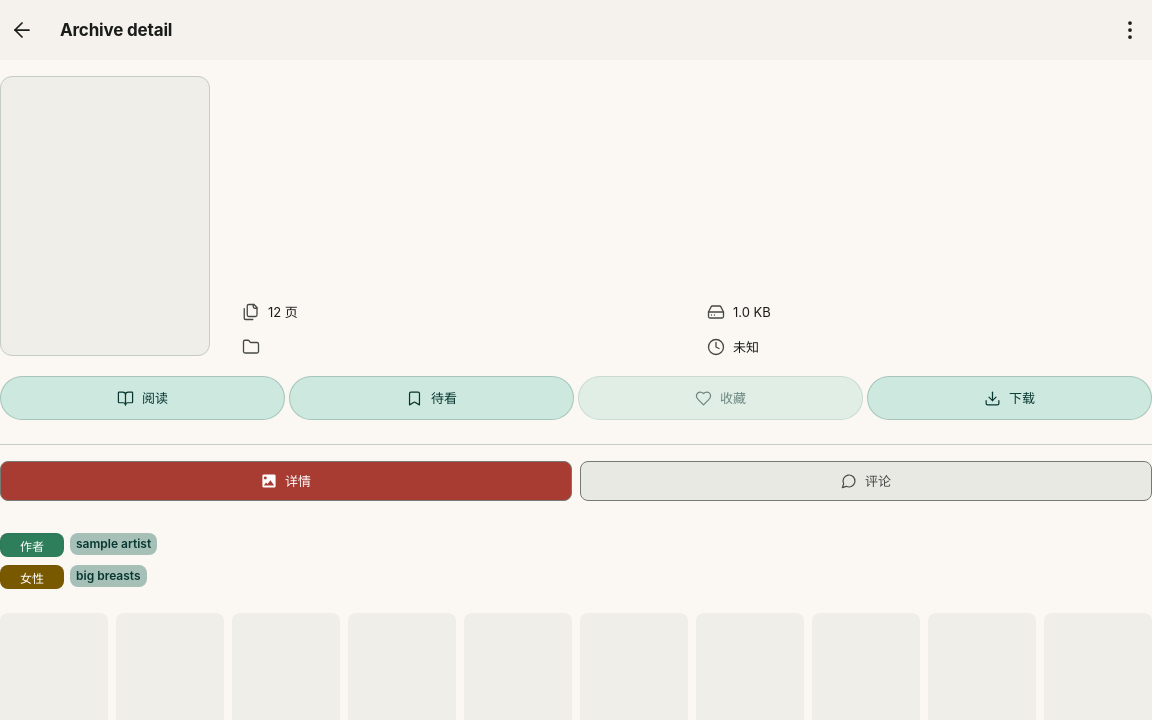
Test case: archive detail route › keeps the read label and action available when the optional progress fact fails
expect the heading "Archive detail" is shown: met, box x1=60 y1=20 x2=172 y2=40
Click the link "阅读" at x=142, y=398, box x1=0 y1=376 x2=285 y2=420
(page scrolled)
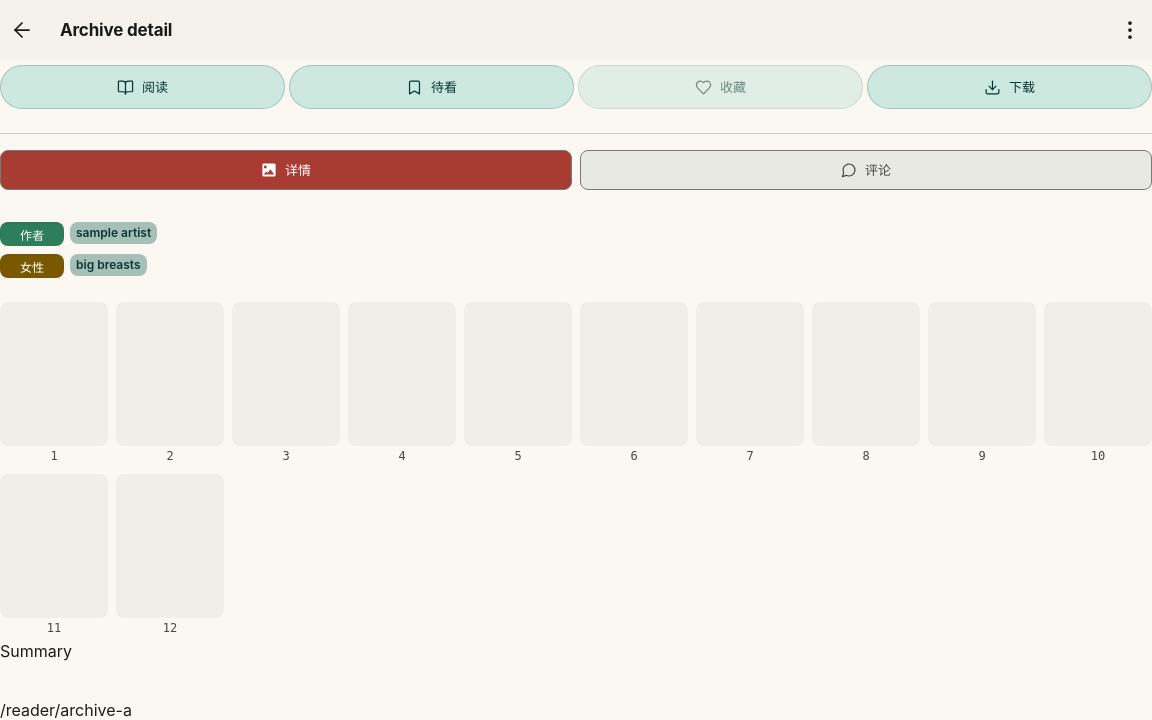
expect the text with test id "reading-retry-location" reads "/reader/archive-a": met, box x1=0 y1=700 x2=132 y2=719
